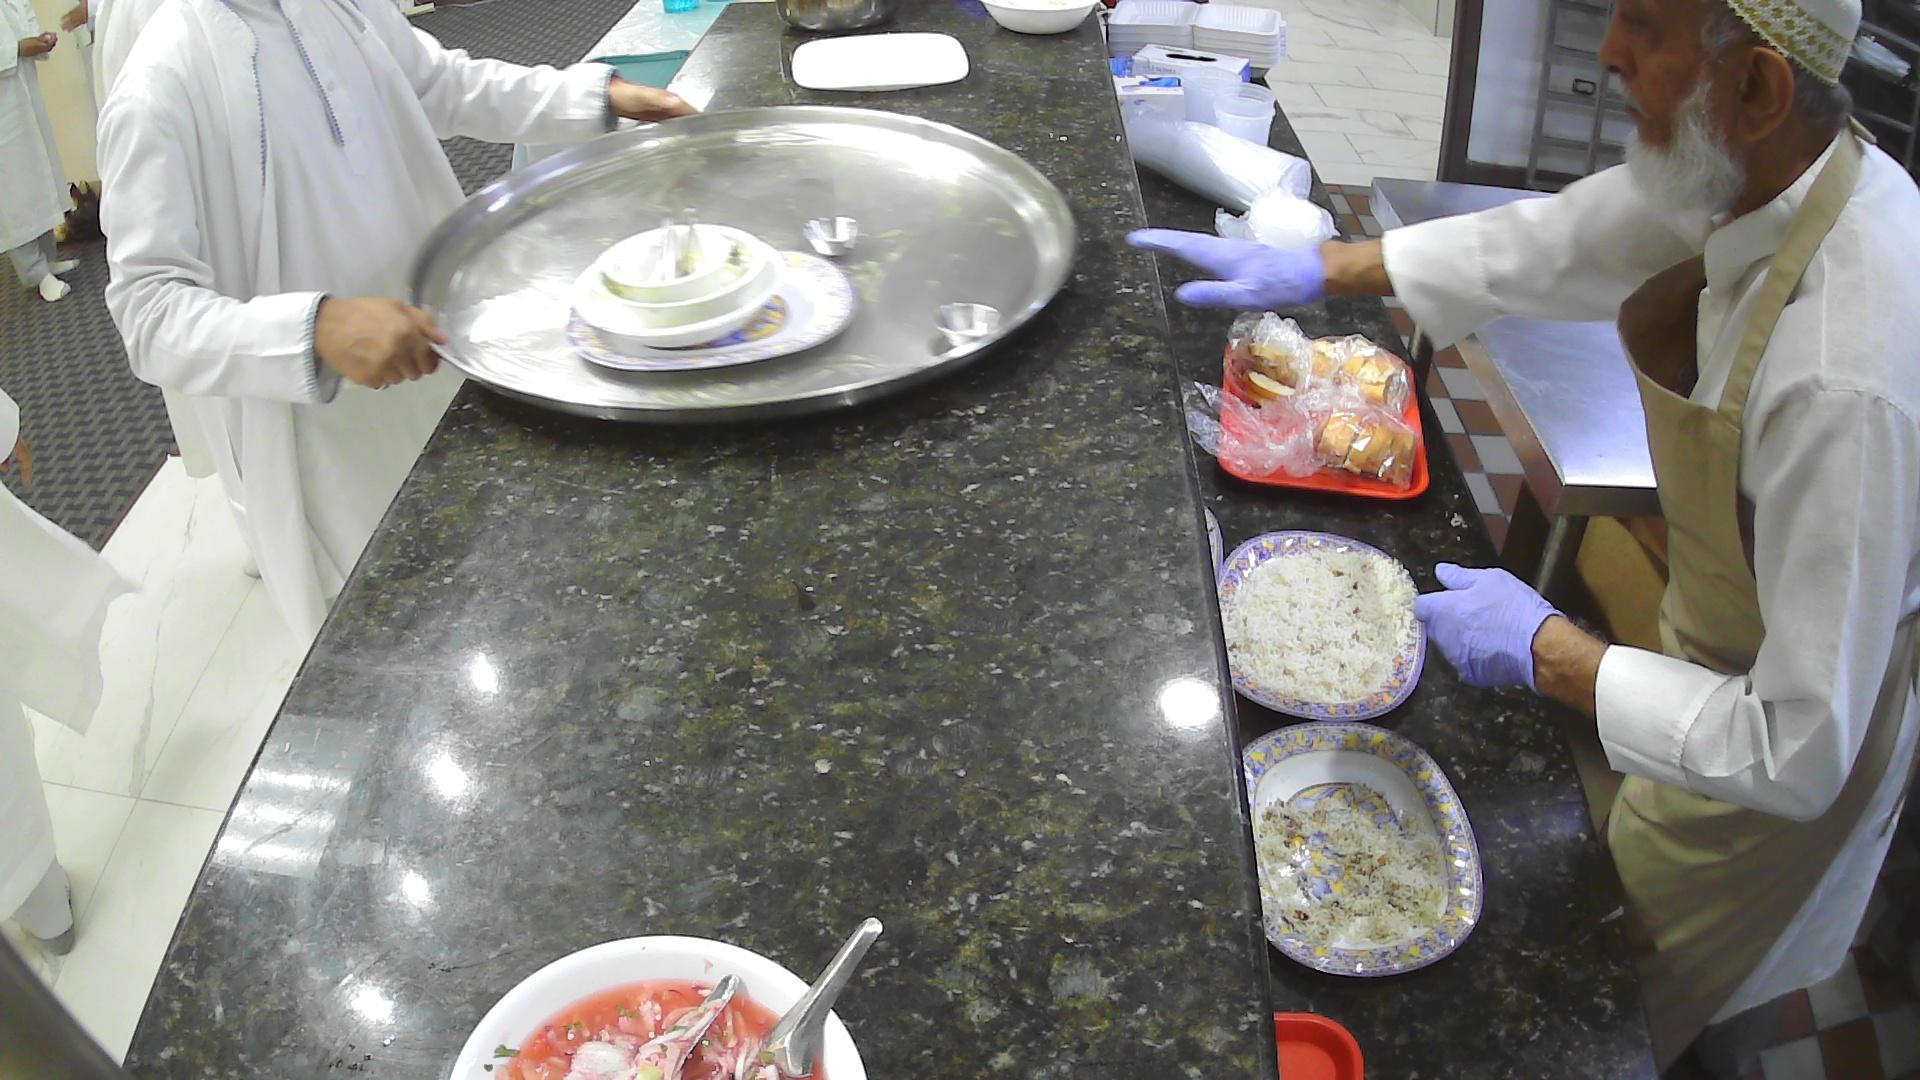thaal: (407, 103, 1081, 427)
